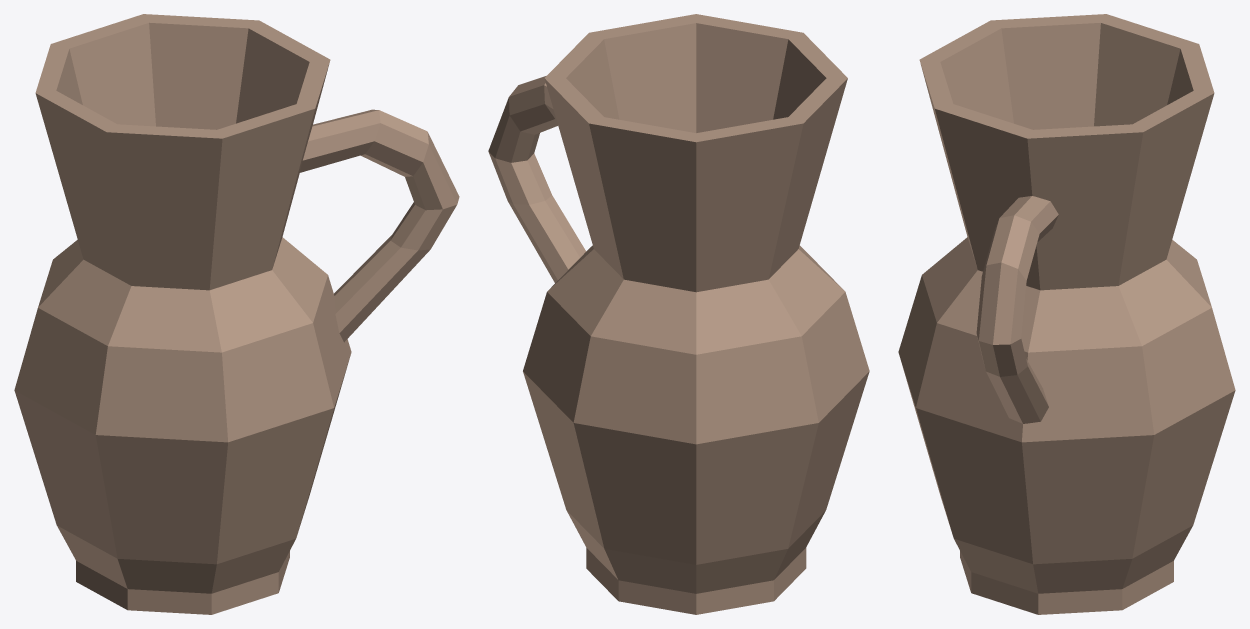
The model's file is Jug.fbx.
3 renders of one model, left to right at view 1: azimuth 30°, elevation 25°; view 2: azimuth 150°, elevation 25°; view 3: azimuth 270°, elevation 25°, orthographic.
Parts seen in each view (by area): view 1: Jug; view 2: Jug; view 3: Jug.
Part boxes in pixels (x1,y1,x2,y2): Jug: (14,14,459,614); Jug: (488,14,869,614); Jug: (898,14,1235,614).
Bounding box in the file's own units: 17.6 × 13.33 × 21.53.
